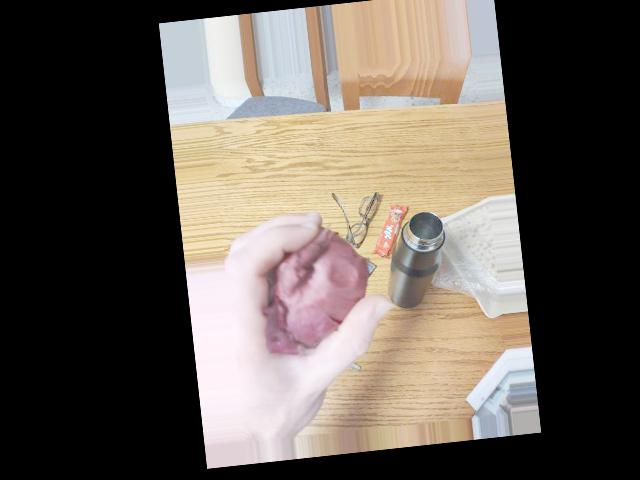onion: (262, 244, 353, 338)
